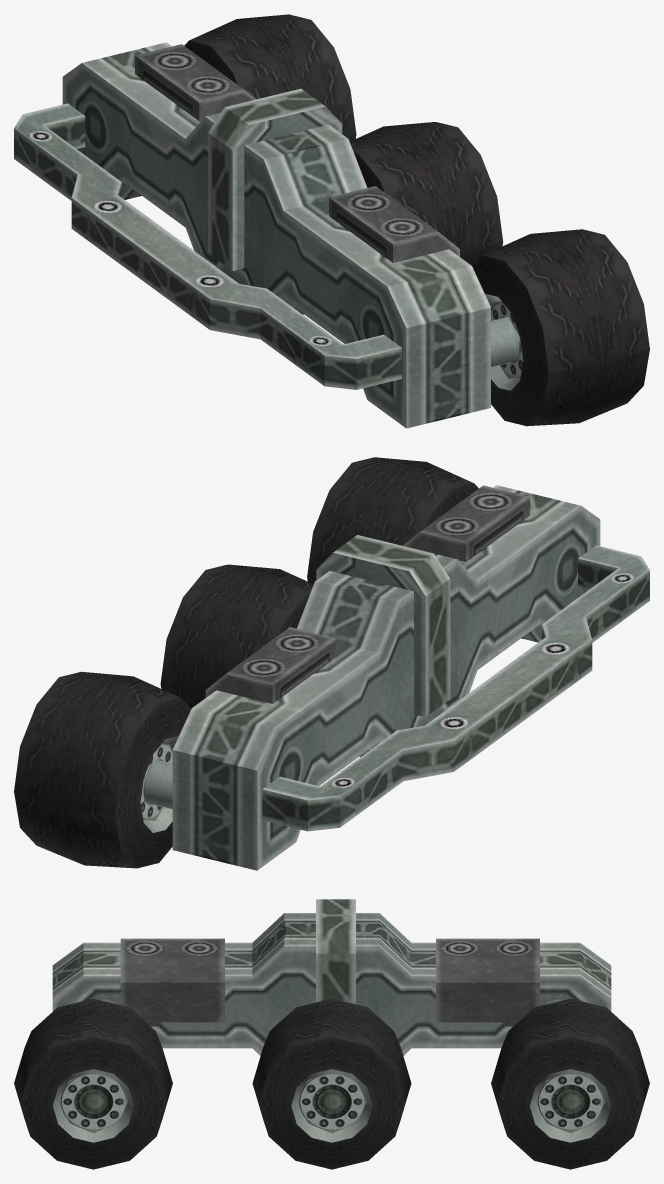
Rendered from Wheel_half_short_tri_R.FBX.
3 renders of one model, top to bottom at view 1: azimuth 30°, elevation 25°; view 2: azimuth 150°, elevation 25°; view 3: azimuth 270°, elevation 25°, orthographic. The views are drawn at different scales.
Visible parts, largest first — view 1: Wheel_half_short_tri_R; view 2: Wheel_half_short_tri_R; view 3: Wheel_half_short_tri_R.
Boxes of the visible parts, x1=… form: Wheel_half_short_tri_R: x1=14, y1=14, x2=649, y2=428; Wheel_half_short_tri_R: x1=14, y1=457, x2=649, y2=870; Wheel_half_short_tri_R: x1=14, y1=899, x2=649, y2=1169.
Size of the model in its own units: 191 by 131 by 400.
